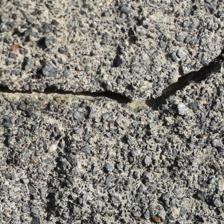Crack: (38, 84, 94, 139), (106, 47, 148, 108)
